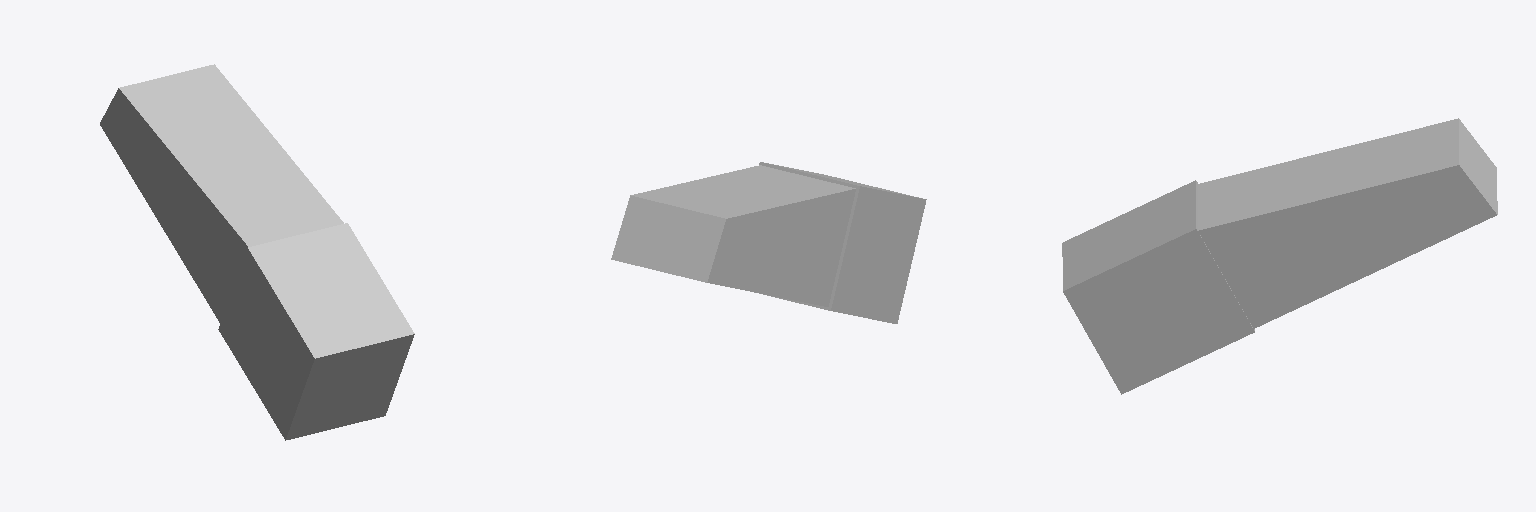
Rendered from hand_005.obj.
The picture shows the model from 3 angles: view 1: azimuth 30°, elevation 25°; view 2: azimuth 150°, elevation 25°; view 3: azimuth 270°, elevation 25°; orthographic projection.
Visible parts, largest first — view 1: Куб; view 2: Куб; view 3: Куб.
Part boxes in pixels (x1,y1,x2,y2): Куб: (100,64,414,440); Куб: (611,162,926,323); Куб: (1062,118,1497,394).
Bounding box in the file's own units: 0.2006 × 0.4361 × 0.7515.